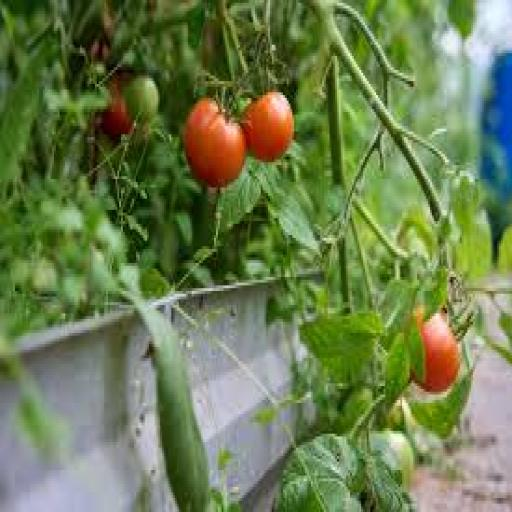tomato: (185, 98, 245, 187), (416, 311, 459, 394), (244, 93, 294, 162), (371, 431, 415, 486), (101, 79, 134, 139), (123, 76, 160, 123), (384, 431, 415, 486)
